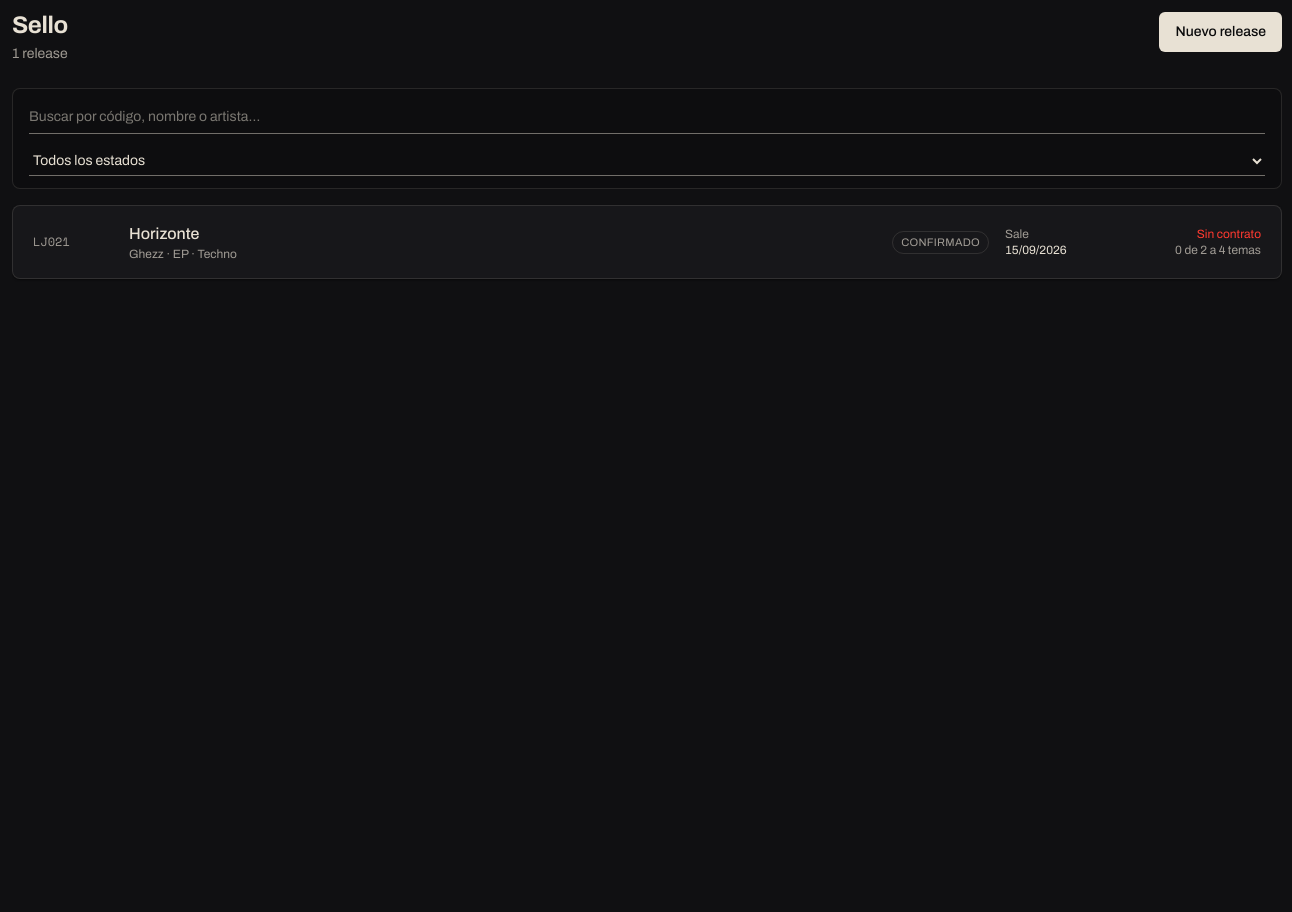
Test: el tracklist › muestra el rango que manda el servidor, no uno propio
Click the text "Horizonte": point(164, 234) [129,225,199,242]
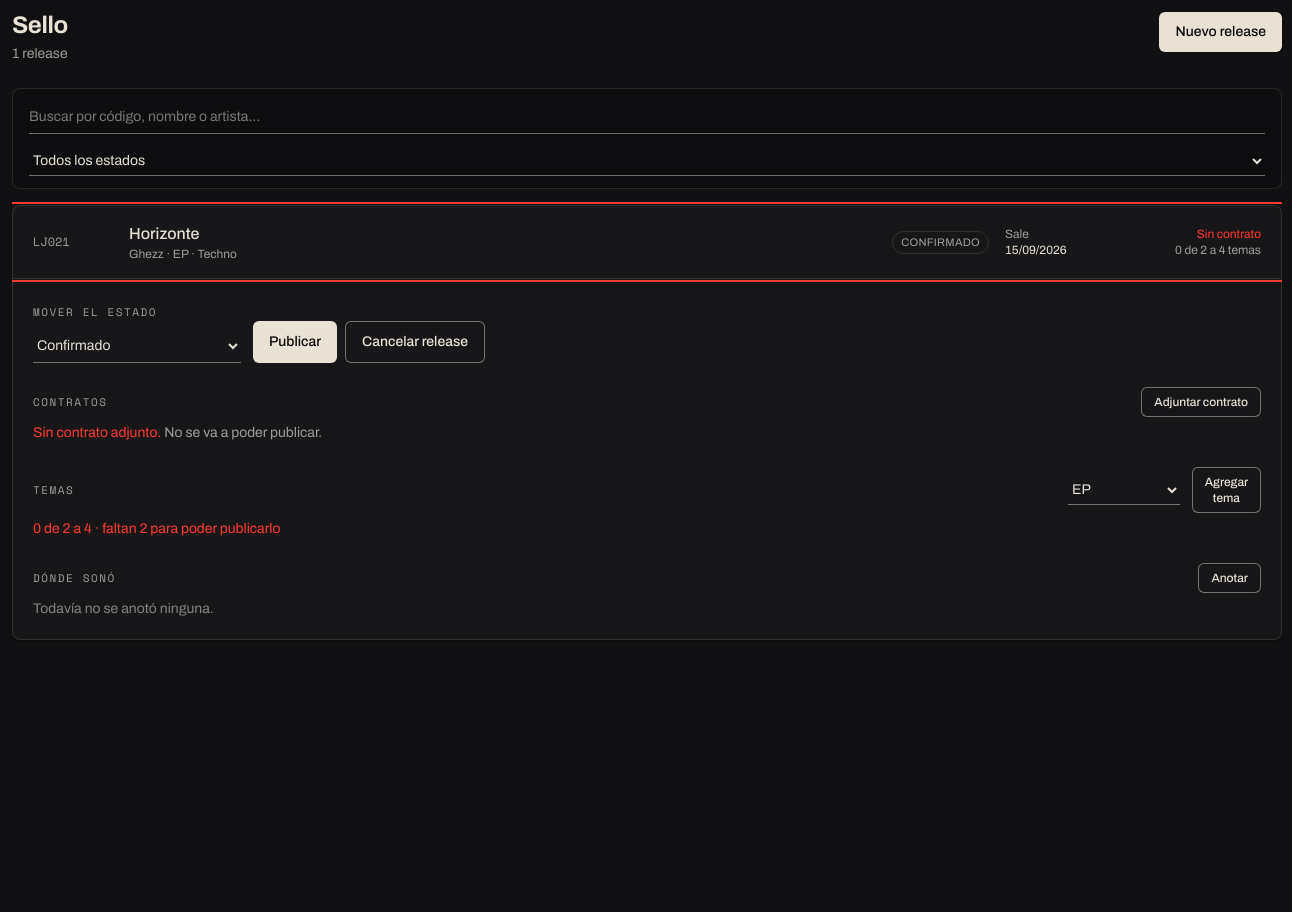
Check: the text "0 de 2 a 4 temas" is shown, box [1175,243,1261,257]
Check: the text "0 de 2 a 4 · faltan 2 para poder publicarlo" is shown, box [33,521,280,536]
